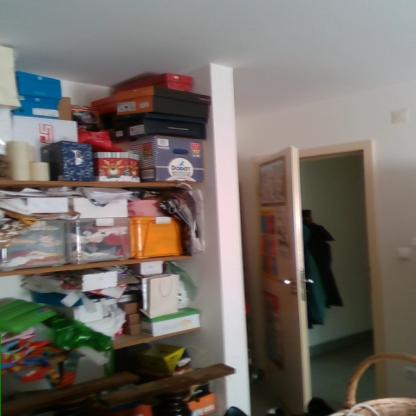semi: (242, 137, 400, 411)
